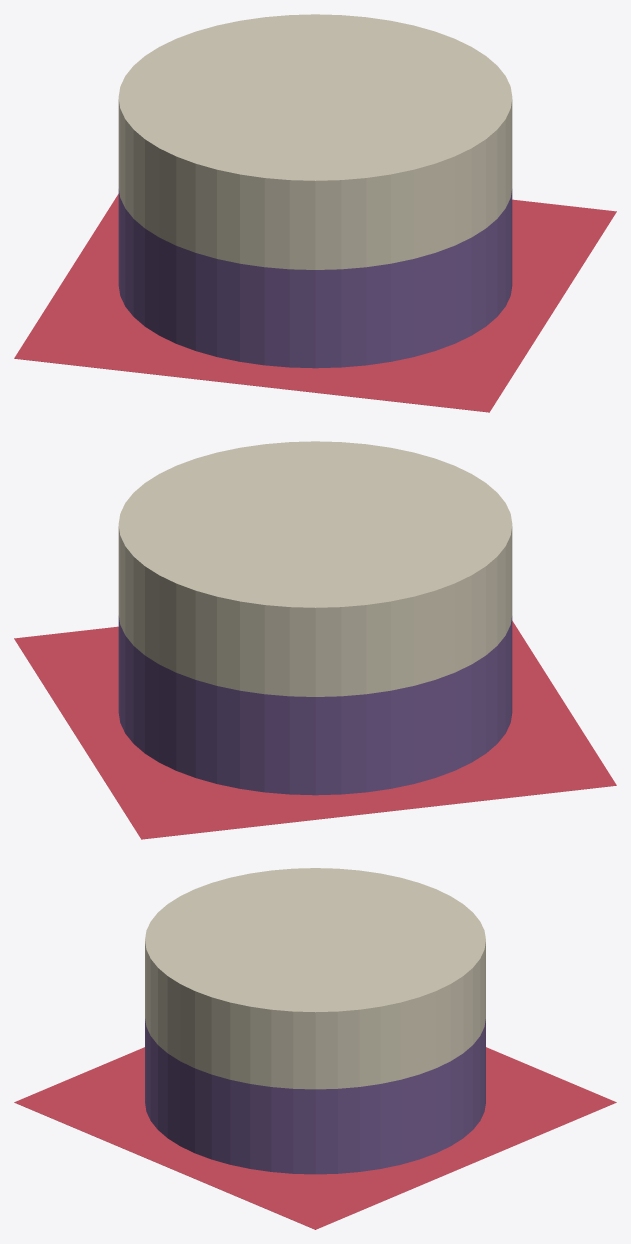
Rendered from UUV.glb.
3 renders of one model, top to bottom at view 1: azimuth 30°, elevation 25°; view 2: azimuth 150°, elevation 25°; view 3: azimuth 270°, elevation 25°, orthographic. The views are drawn at different scales.
Parts seen in each view (by area): view 1: Mesh_Mesh_head_geo.001_lambert2SG.001; view 2: Mesh_Mesh_head_geo.001_lambert2SG.001; view 3: Mesh_Mesh_head_geo.001_lambert2SG.001.
Boxes of the visible parts, x1,y1,x2,y2 form: Mesh_Mesh_head_geo.001_lambert2SG.001: (14, 14, 616, 412); Mesh_Mesh_head_geo.001_lambert2SG.001: (14, 441, 616, 839); Mesh_Mesh_head_geo.001_lambert2SG.001: (14, 868, 616, 1229).
Bounding box in the file's own units: 0.0354 × 0.0105 × 0.0354.
